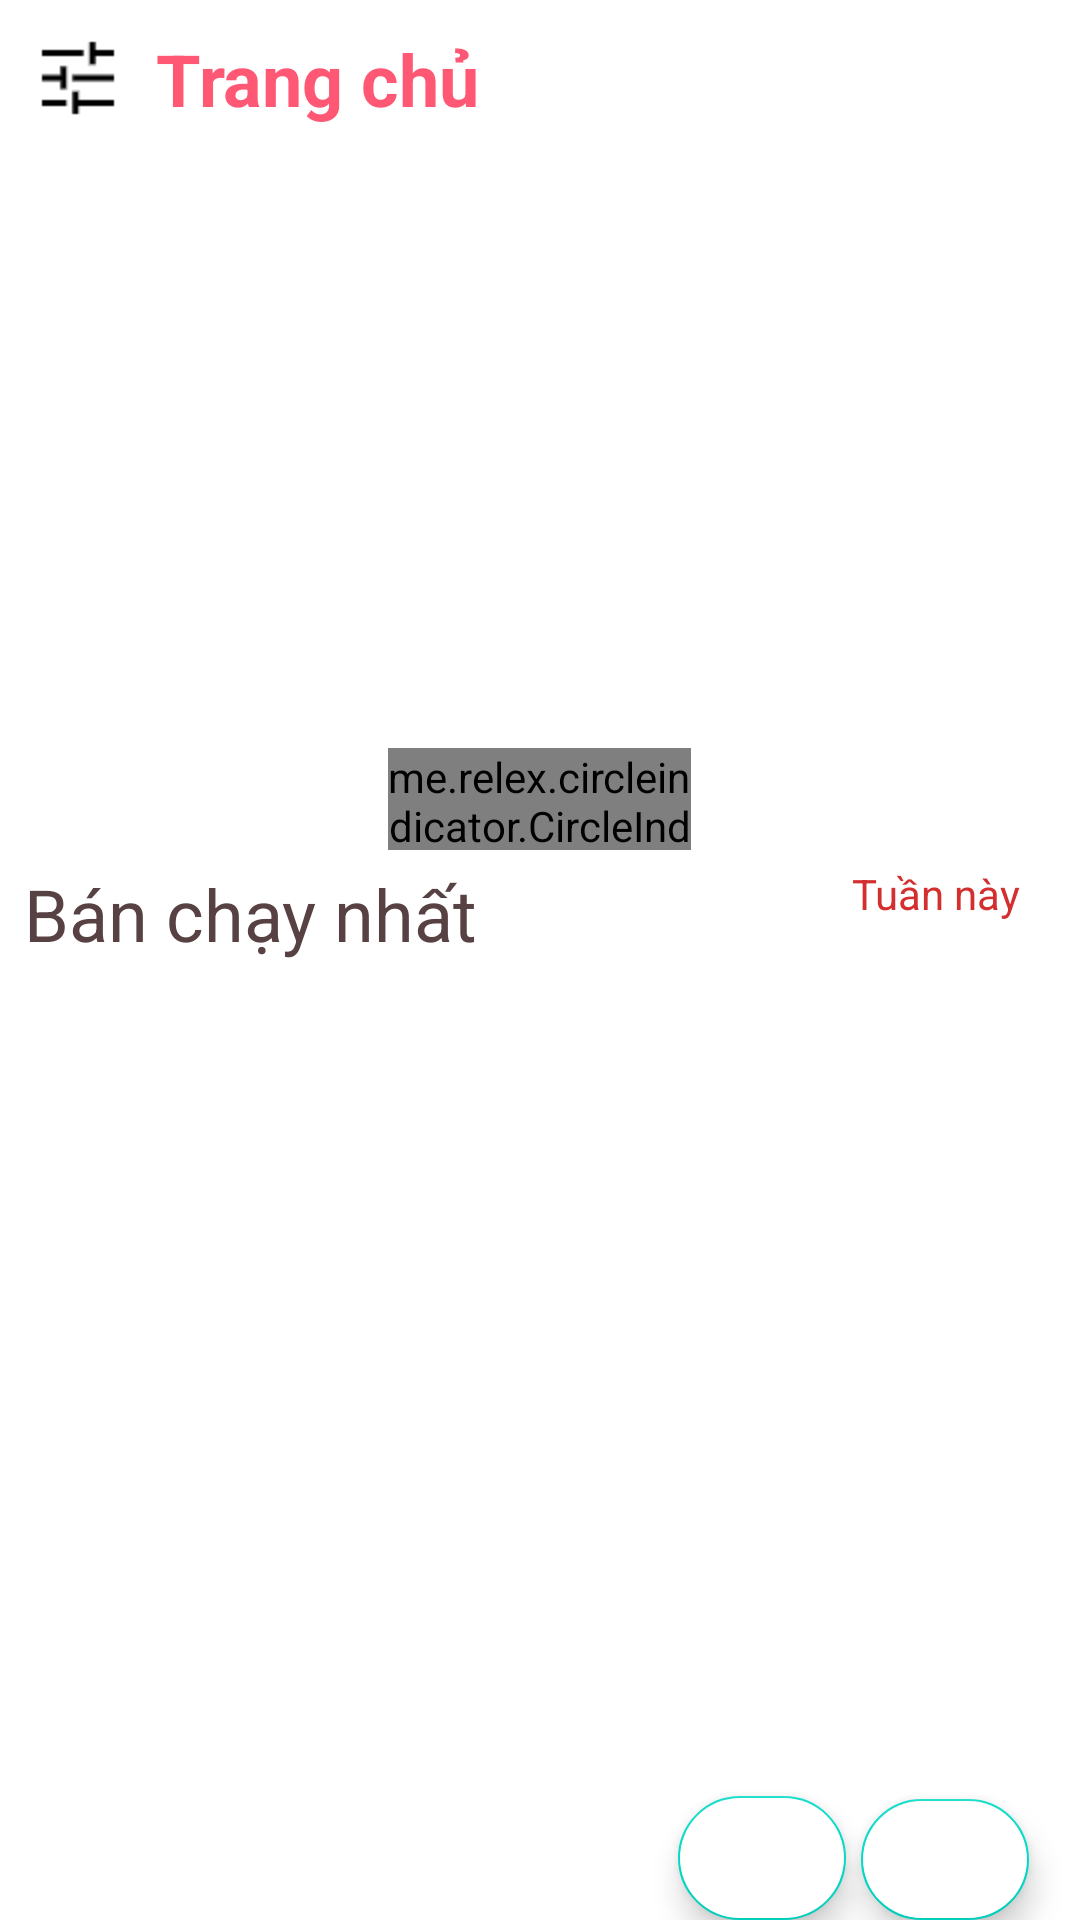

Screen size 1080px x 1920px. Icon name, then its center in pixels as point (x, y):
customize: point (78, 78)
